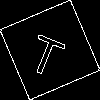T: (25, 25, 70, 79)
